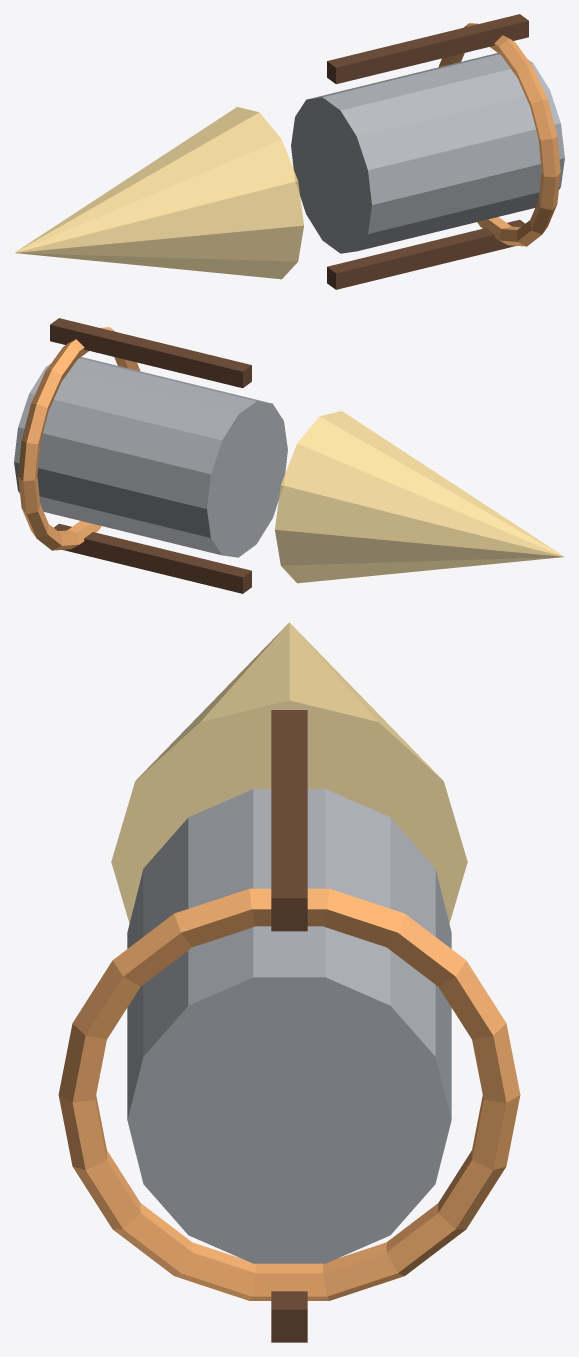
Rendered from 06_skyship_engine.glb.
3 renders of one model, top to bottom at view 1: azimuth 30°, elevation 25°; view 2: azimuth 150°, elevation 25°; view 3: azimuth 270°, elevation 25°, orthographic. The views are drawn at different scales.
Visible parts, largest first — view 1: engine_core, thruster_plume, engine_ring, mount_strut_r, mount_strut_l; view 2: engine_core, thruster_plume, engine_ring, mount_strut_r, mount_strut_l; view 3: engine_core, engine_ring, thruster_plume, mount_strut_r, mount_strut_l.
Part boxes in pixels (bbox=[...]): engine_core: bbox=[291, 53, 564, 253]; thruster_plume: bbox=[14, 107, 303, 279]; engine_ring: bbox=[438, 23, 560, 246]; mount_strut_r: bbox=[327, 14, 528, 84]; mount_strut_l: bbox=[327, 219, 524, 289]; engine_core: bbox=[14, 357, 287, 557]; thruster_plume: bbox=[275, 411, 564, 583]; engine_ring: bbox=[18, 327, 140, 550]; mount_strut_r: bbox=[50, 318, 251, 388]; mount_strut_l: bbox=[54, 523, 251, 593]; engine_core: bbox=[127, 789, 451, 1263]; engine_ring: bbox=[58, 888, 520, 1300]; thruster_plume: bbox=[111, 622, 467, 923]; mount_strut_r: bbox=[271, 710, 307, 931]; mount_strut_l: bbox=[271, 1291, 307, 1342].
Size of the model in its own units: 4.07 by 1.69 by 1.6.
